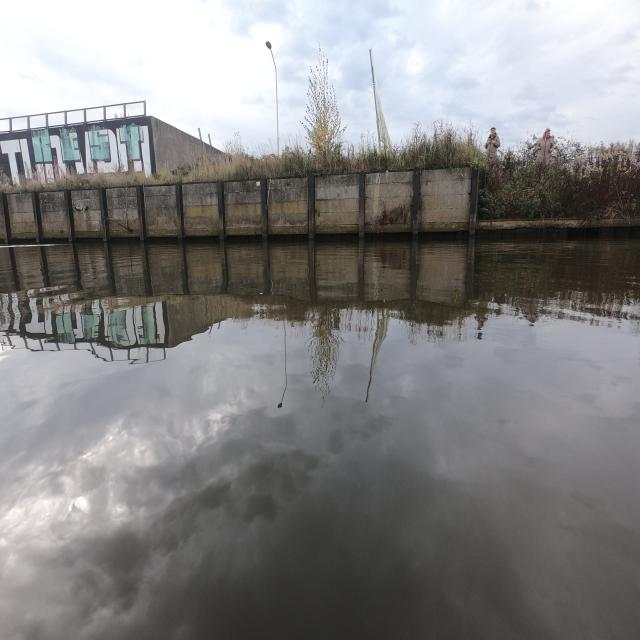dock: (476, 218, 640, 240)
reed: (480, 137, 640, 222)
wall: (0, 168, 472, 241)
water: (0, 239, 640, 640)
